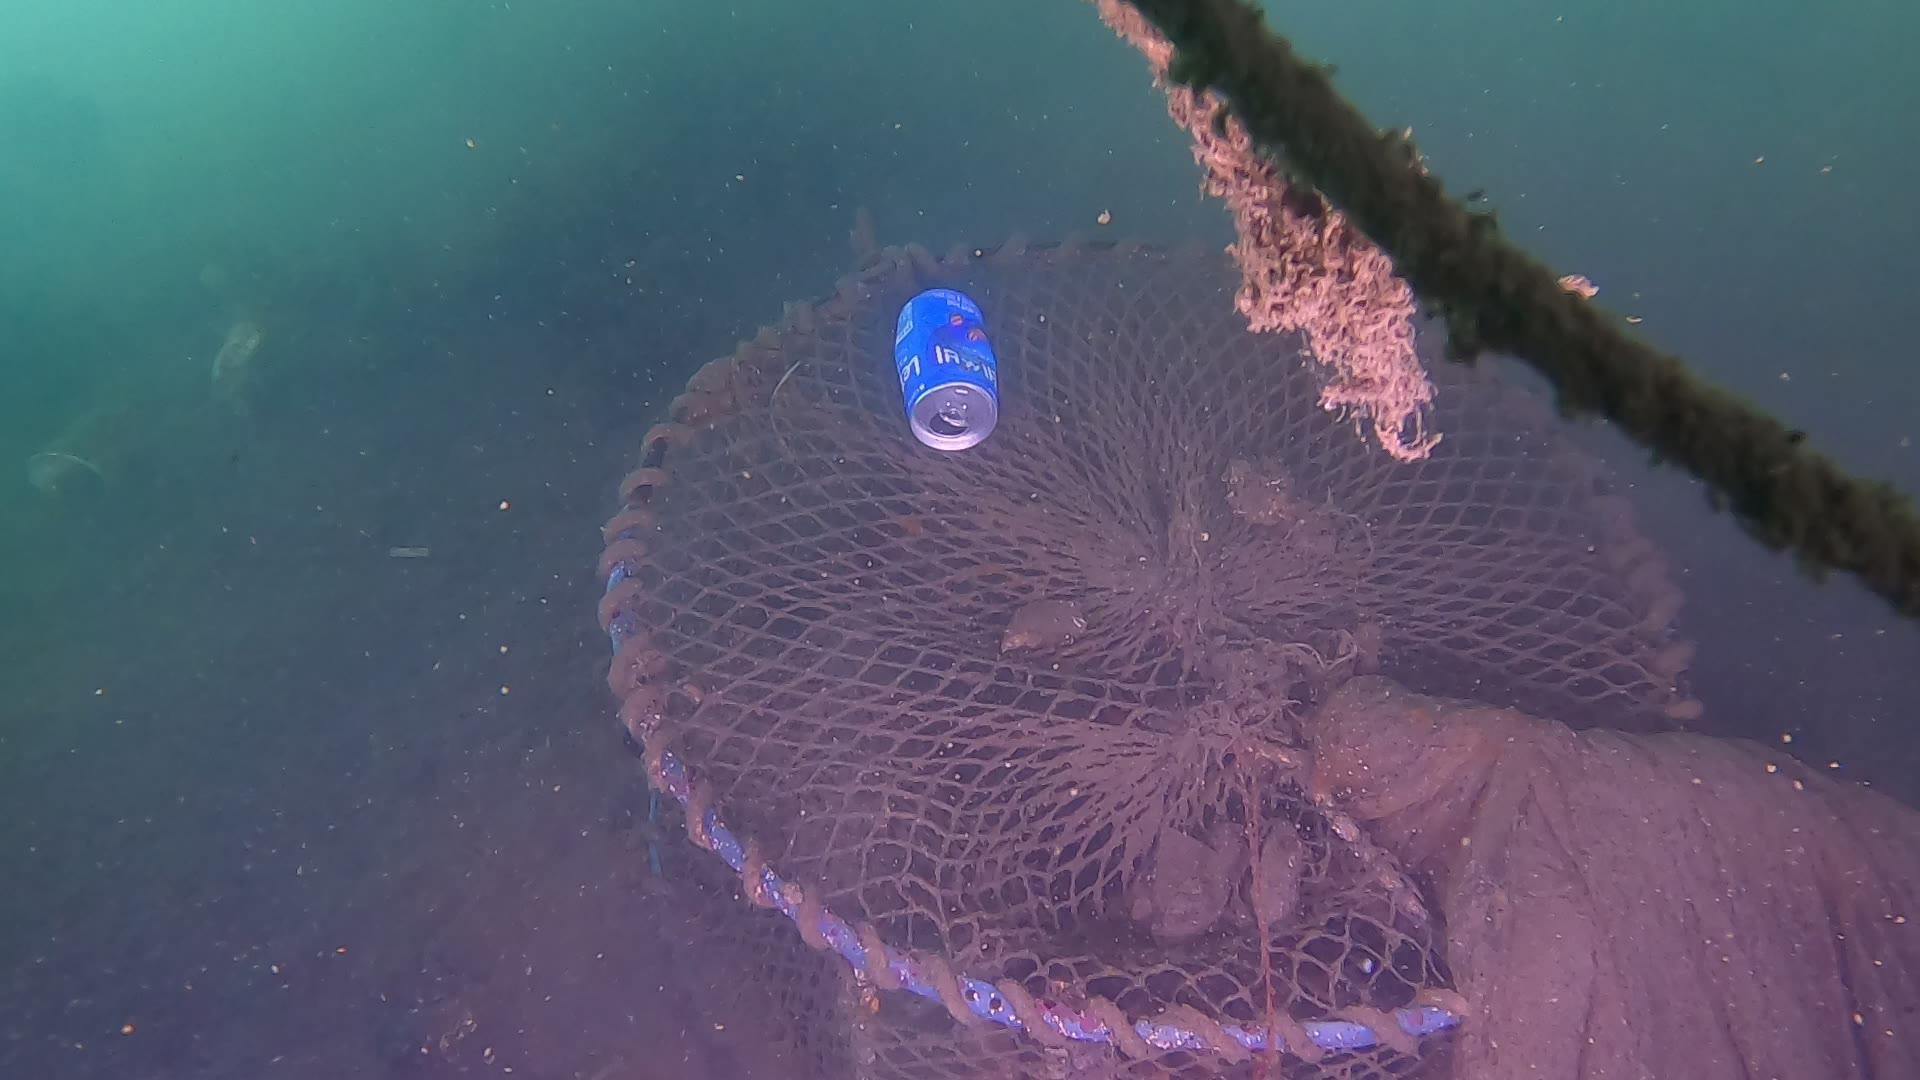circular fish trap: (585, 215, 1712, 1080)
rope: (1092, 0, 1920, 633)
